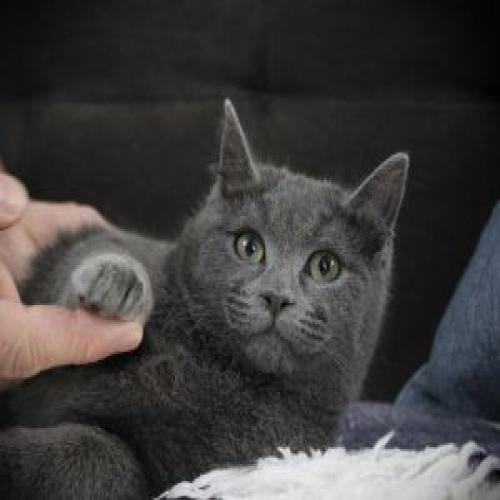rblue: (187, 89, 424, 396)
